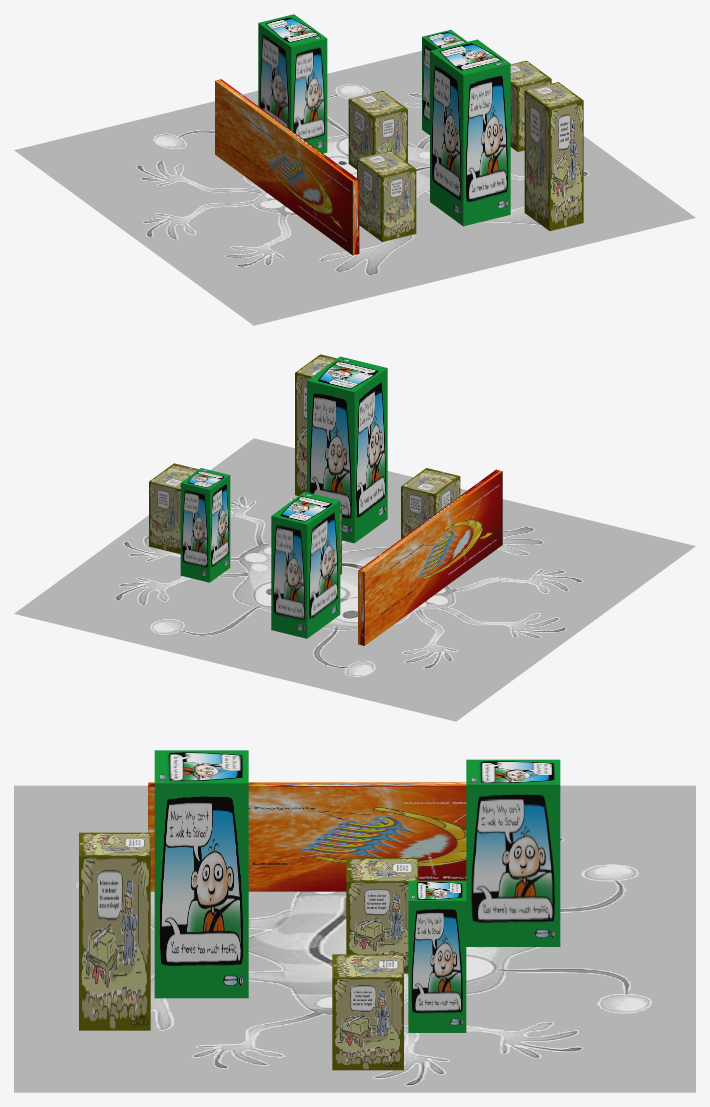
File: lightmap_old01.dae
3 views of the same model, one above another, from view 1: azimuth 30°, elevation 25°; view 2: azimuth 150°, elevation 25°; view 3: azimuth 270°, elevation 25° (orthographic). The views are drawn at different scales.
Parts seen in each view (by area): view 1: Plane01; view 2: Plane01; view 3: Plane01.
Part boxes in pixels (left/top/right/bottom): Plane01: left=14, top=14, right=695, bottom=325; Plane01: left=14, top=354, right=695, bottom=721; Plane01: left=14, top=750, right=695, bottom=1092.
Bounding box in the file's own units: 324 × 304 × 106.
Materials: 4 (4 with a texture image).
